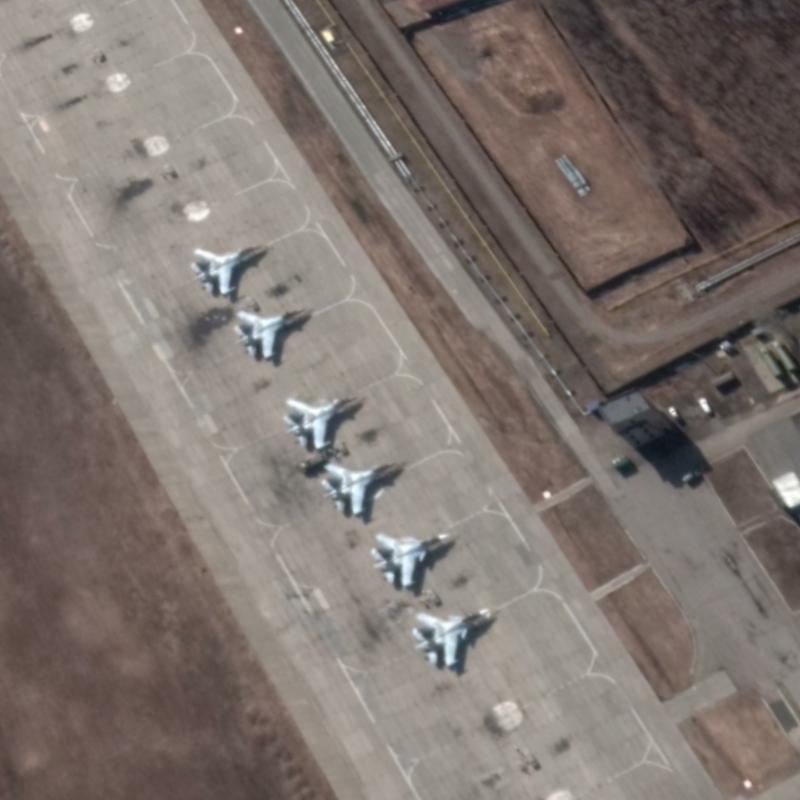A1: (317, 458, 403, 517), (279, 391, 362, 451), (186, 242, 265, 299), (230, 305, 308, 360)
A19: (410, 605, 491, 667), (369, 530, 451, 588)
